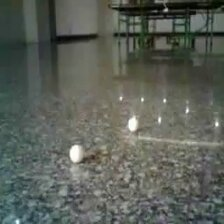w: (69, 145, 83, 161), (128, 118, 139, 132)
